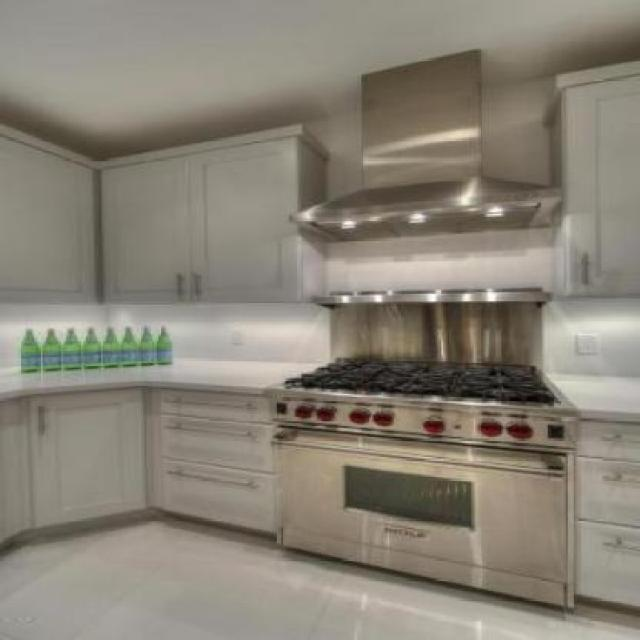Floor: (1, 517, 638, 639)
